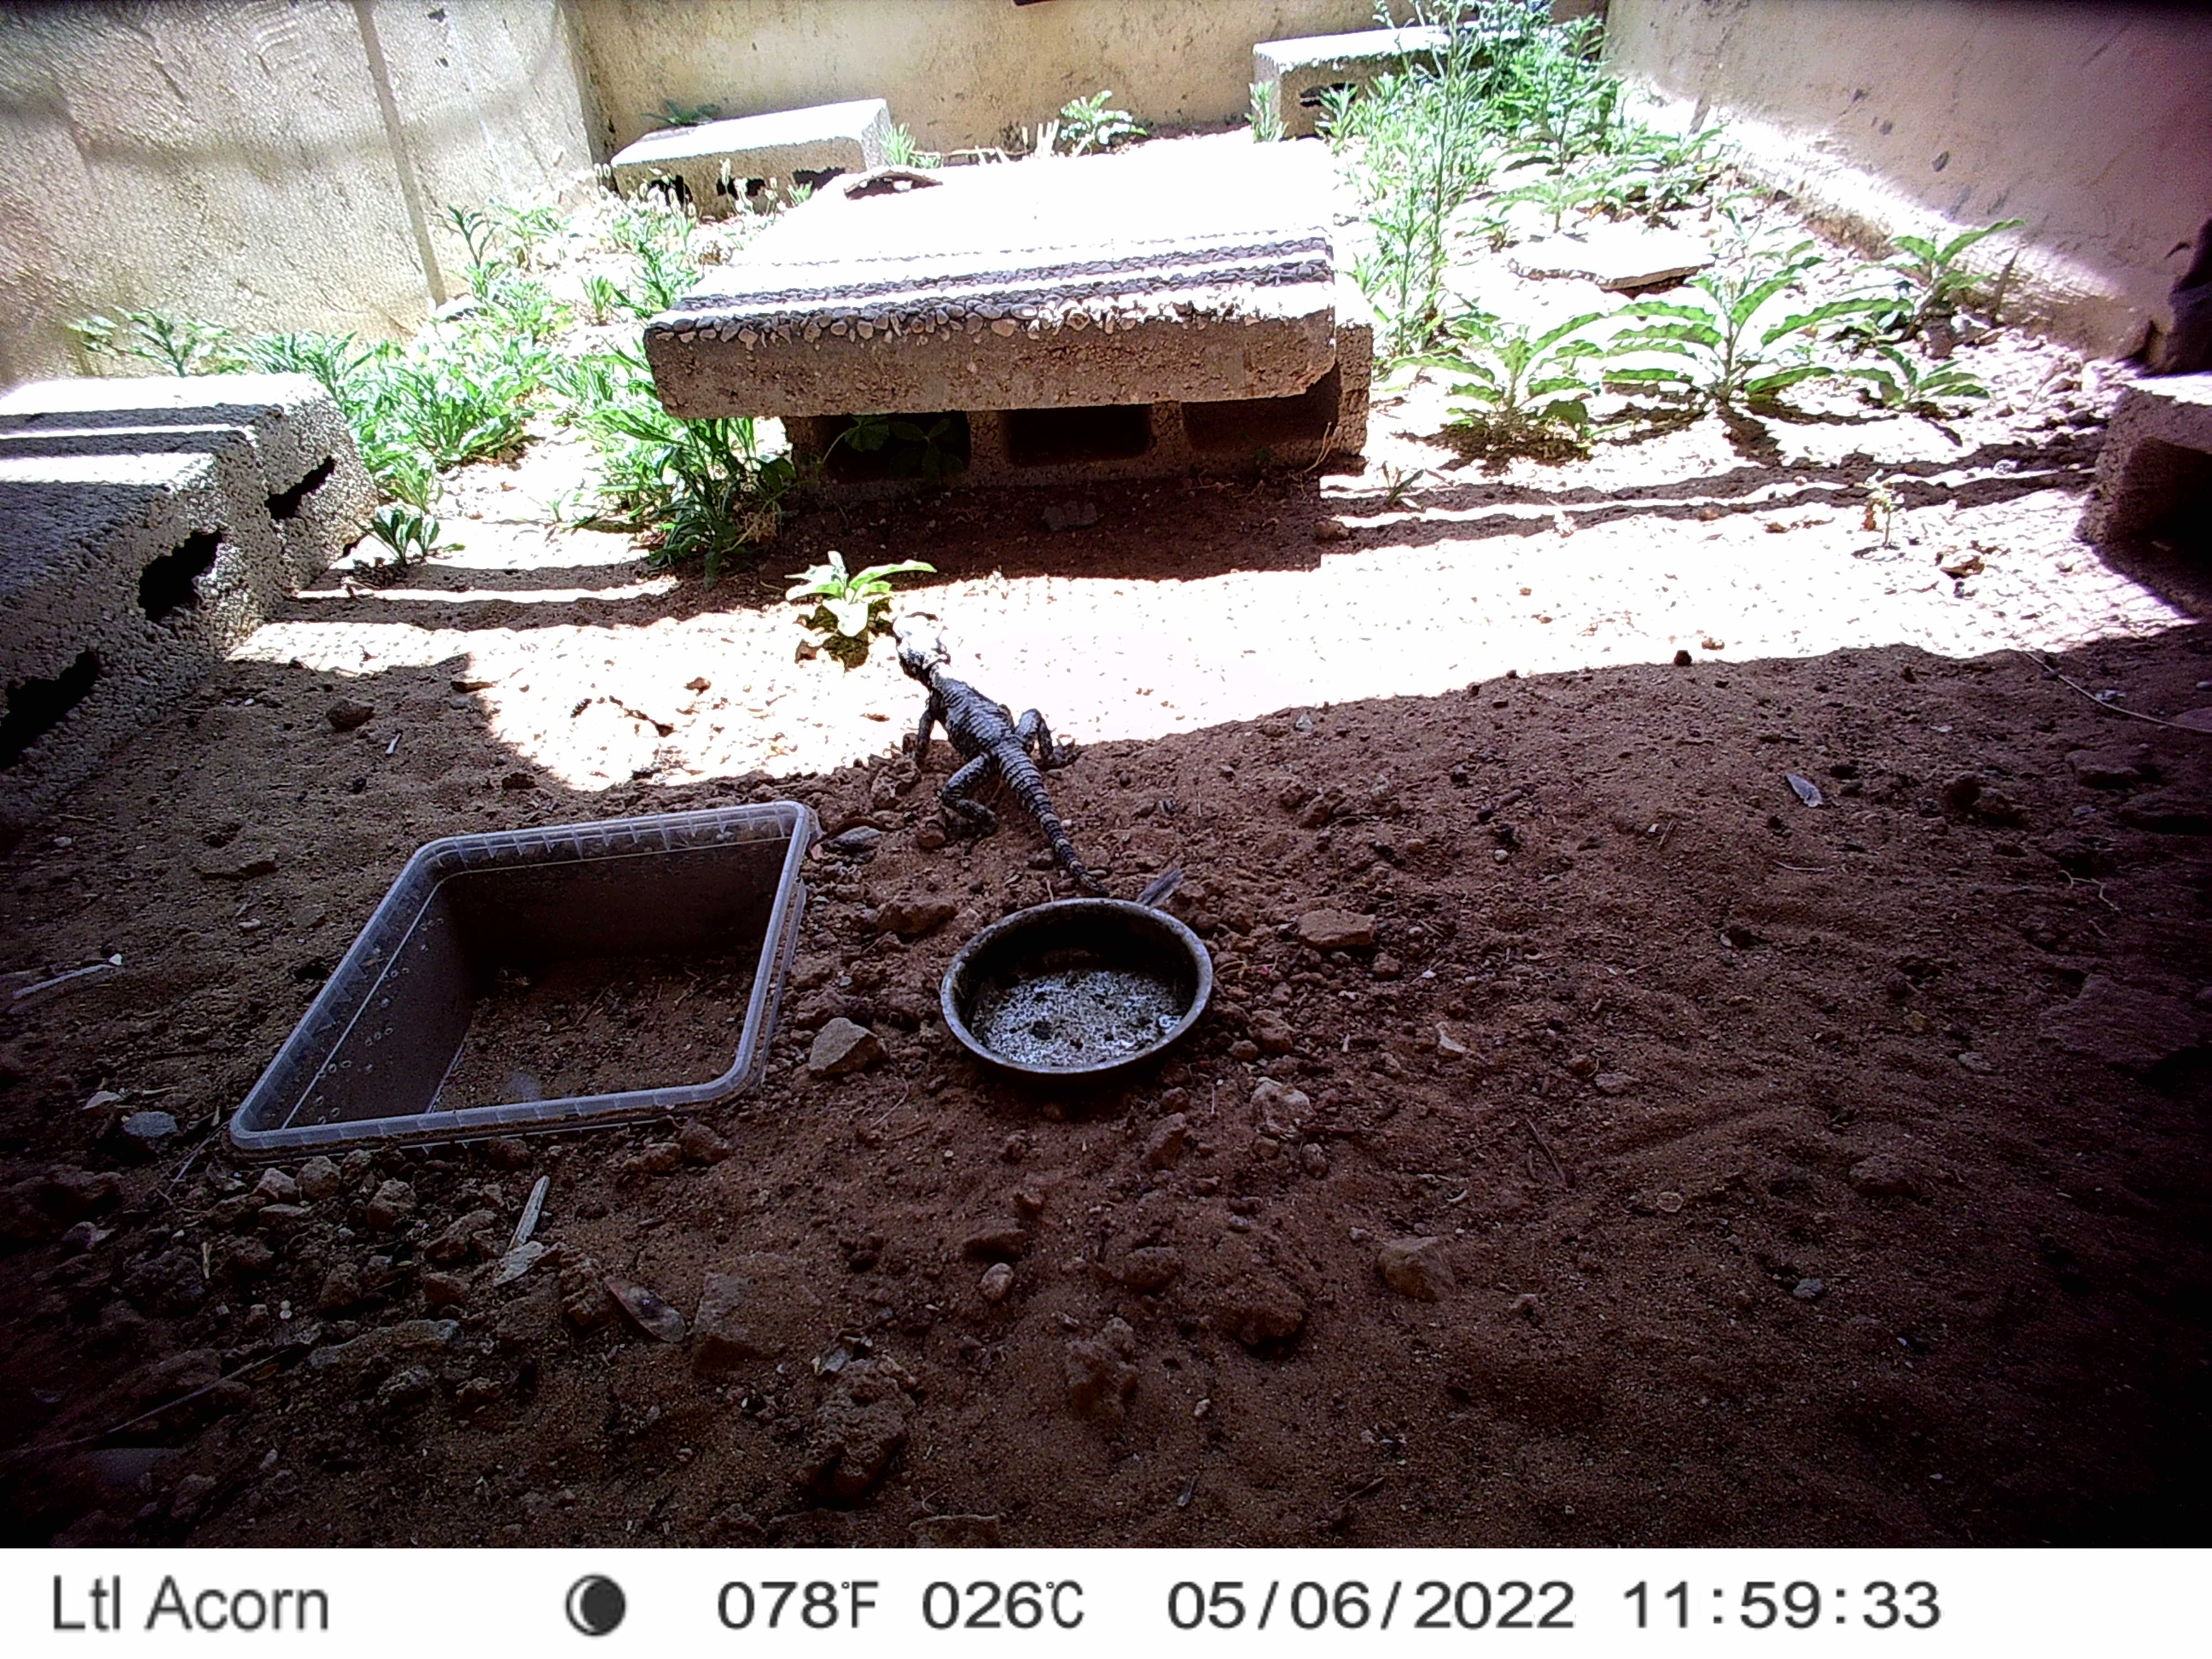lizard: (890, 633, 1155, 904)
